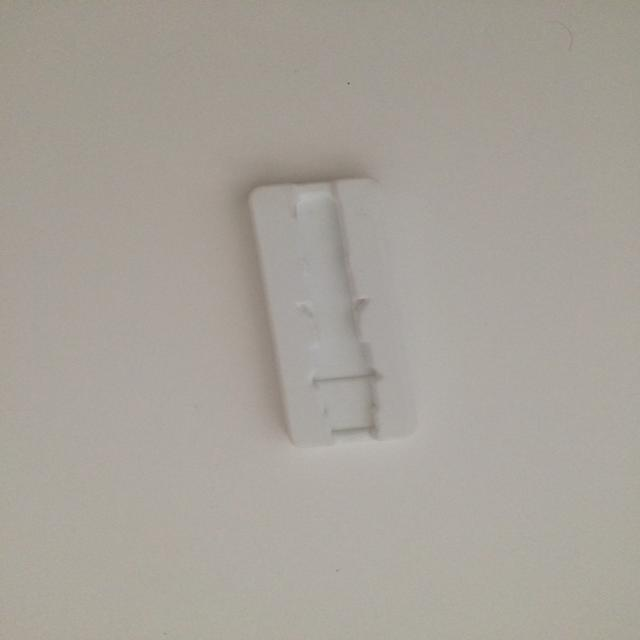plastic: (242, 162, 430, 446)
